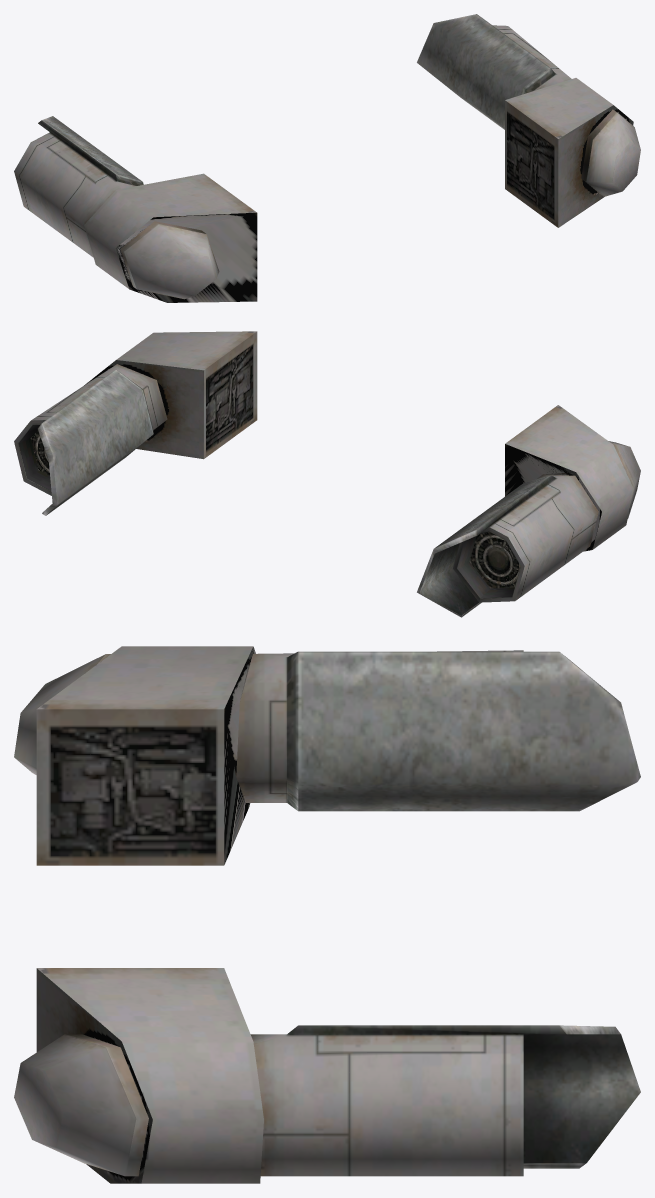
File: hutt_fighter_heavy_booster_s01_l1.fbx
The picture shows the model from 3 angles, top to bottom: view 1: azimuth 30°, elevation 25°; view 2: azimuth 150°, elevation 25°; view 3: azimuth 270°, elevation 25°; orthographic projection. The views are drawn at different scales.
Parts seen in each view (by area): view 1: mesh_node; view 2: mesh_node; view 3: mesh_node.
Boxes of the visible parts, x1,y1,x2,y2 form: mesh_node: [14, 14, 640, 302]; mesh_node: [14, 331, 640, 617]; mesh_node: [14, 646, 640, 1183].
Bounding box in the file's own units: 9.29 × 1.53 × 5.53.
